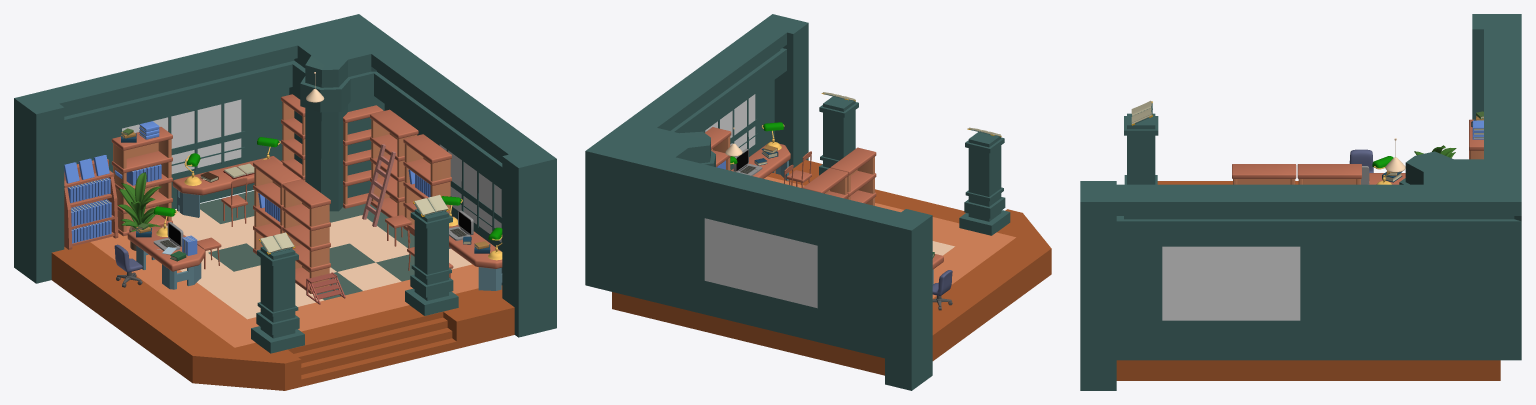
The model's file is library.fbx.
The picture shows the model from 3 angles, left to right: view 1: azimuth 30°, elevation 25°; view 2: azimuth 150°, elevation 25°; view 3: azimuth 270°, elevation 25°; orthographic projection. The views are drawn at different scales.
Parts seen in each view (by area): view 1: Plane.015, Plane.010, Plane.013, Cube.1550, Cube.1498, Cube.1493, Cube.1520, Cube.1524, Cube.1528, Cube.1566, Cube.1565, Cube.1508 (+22 smaller); view 2: Plane.015, Plane.010, Cube.1498, Cube.1493, Cube.1550, Plane.013, Cube.1520, Cube.1513, Cube.1524, desk.002, Cube.1506, Plane.022; view 3: Plane.015, Plane.010, Cube.1550, Cube.1520, Cube.1493, Cube.1498, desk.002, Cube.1528.
Boxes of the visible parts, box(x1,y1,x2,y2) form: Plane.015: box(42, 14, 540, 251); Plane.010: box(51, 242, 514, 390); Plane.013: box(90, 190, 478, 347); Cube.1550: box(502, 147, 556, 337); Cube.1498: box(14, 91, 64, 283); Cube.1493: box(251, 209, 458, 353); Cube.1520: box(253, 158, 330, 293); Cube.1524: box(370, 109, 451, 235); Cube.1528: box(111, 127, 172, 236); Cube.1566: box(343, 105, 383, 208); Cube.1565: box(281, 94, 305, 180); Cube.1508: box(64, 159, 118, 249); Plane.015: box(585, 25, 900, 358); Plane.010: box(612, 160, 1051, 375); Cube.1498: box(885, 209, 932, 390); Cube.1493: box(819, 96, 1010, 235); Cube.1550: box(757, 14, 808, 168); Plane.013: box(764, 176, 1015, 298); Cube.1520: box(803, 147, 876, 205); Cube.1513: box(731, 141, 790, 178); Cube.1524: box(705, 127, 731, 170); desk.002: box(932, 270, 952, 310); Cube.1506: box(784, 151, 811, 188); Plane.022: box(733, 148, 762, 175); Plane.015: box(1116, 29, 1521, 360); Plane.010: box(1116, 181, 1500, 380); Cube.1550: box(1080, 181, 1116, 390); Cube.1520: box(1232, 164, 1361, 184); Cube.1493: box(1124, 113, 1158, 184); Cube.1498: box(1472, 14, 1521, 119); desk.002: box(1349, 149, 1373, 172); Cube.1528: box(1469, 119, 1483, 159).
Size of the model in its own units: 1084 by 532 by 1077.
